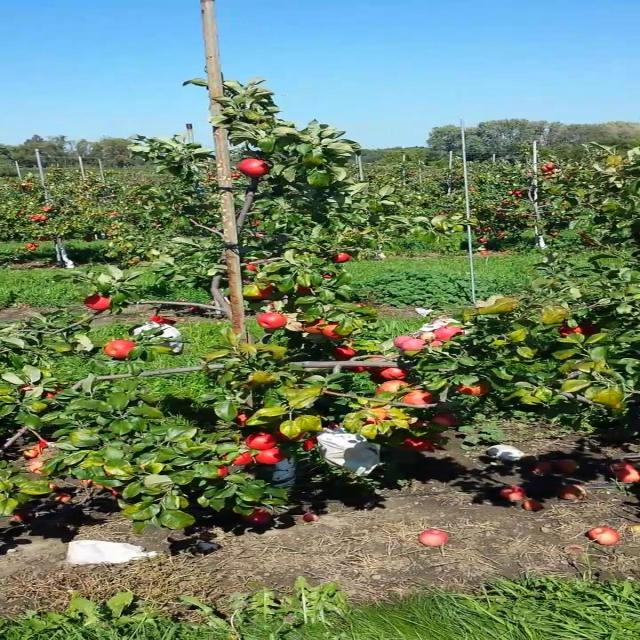apple: (106, 340, 137, 360), (241, 508, 276, 525), (248, 432, 277, 451), (220, 452, 256, 467), (255, 448, 286, 465), (376, 380, 411, 395), (241, 160, 270, 178), (262, 312, 290, 330), (376, 368, 409, 383), (362, 408, 391, 425), (84, 296, 114, 312), (404, 392, 434, 407), (461, 384, 491, 396), (433, 328, 462, 340), (248, 288, 277, 300), (404, 440, 432, 452), (28, 460, 50, 475), (305, 320, 327, 335), (440, 328, 466, 340), (276, 432, 304, 443), (433, 416, 457, 428), (333, 348, 356, 360), (326, 324, 343, 340), (255, 288, 277, 300), (298, 512, 320, 524), (404, 340, 425, 352), (212, 468, 233, 479), (333, 252, 352, 264), (426, 336, 444, 348), (582, 324, 599, 336), (234, 416, 251, 428), (305, 440, 318, 452), (397, 336, 411, 346), (42, 392, 59, 400), (561, 328, 576, 337), (298, 288, 313, 296), (248, 264, 261, 272), (348, 368, 368, 373), (433, 340, 444, 348)
